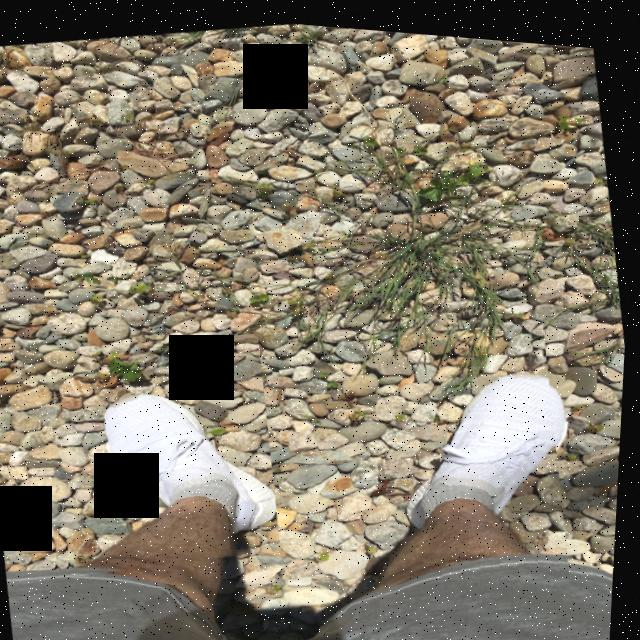shoe: (18, 314, 297, 593), (398, 305, 590, 616)
